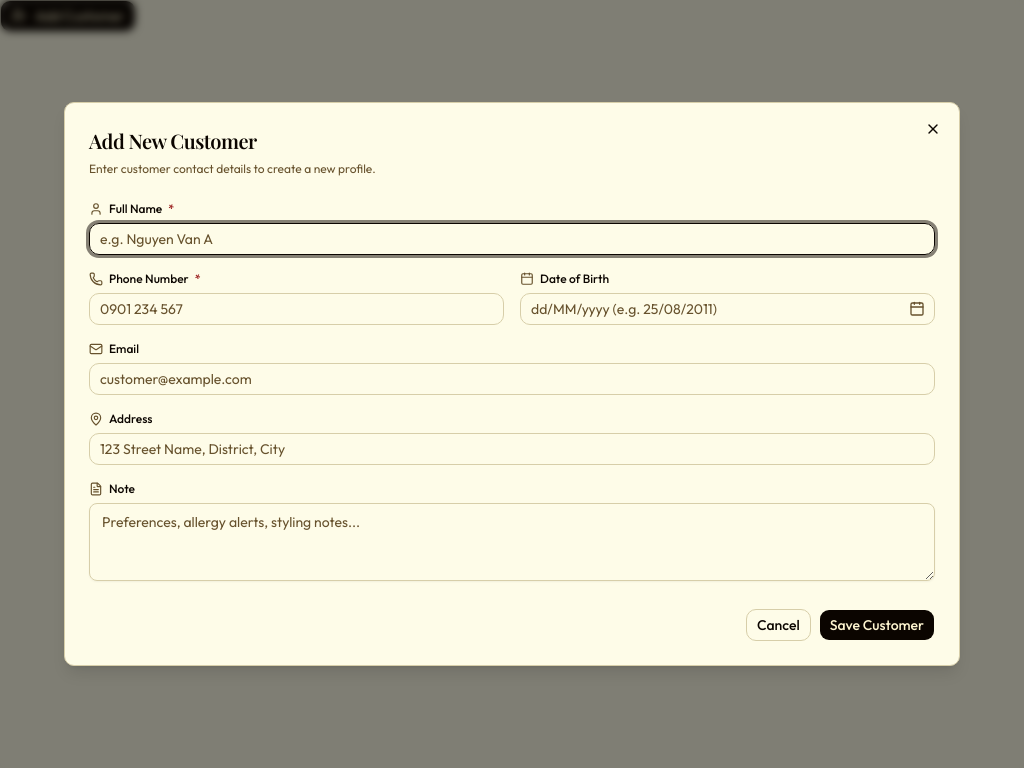
Test case: CustomerFormDialog - Create Mode › displays validation error for invalid email and invalid birthday format
Type "Valid Name" into the field labelled "Full Name *".
click(512, 239); type("Valid Name")  # box [89,223,935,255]
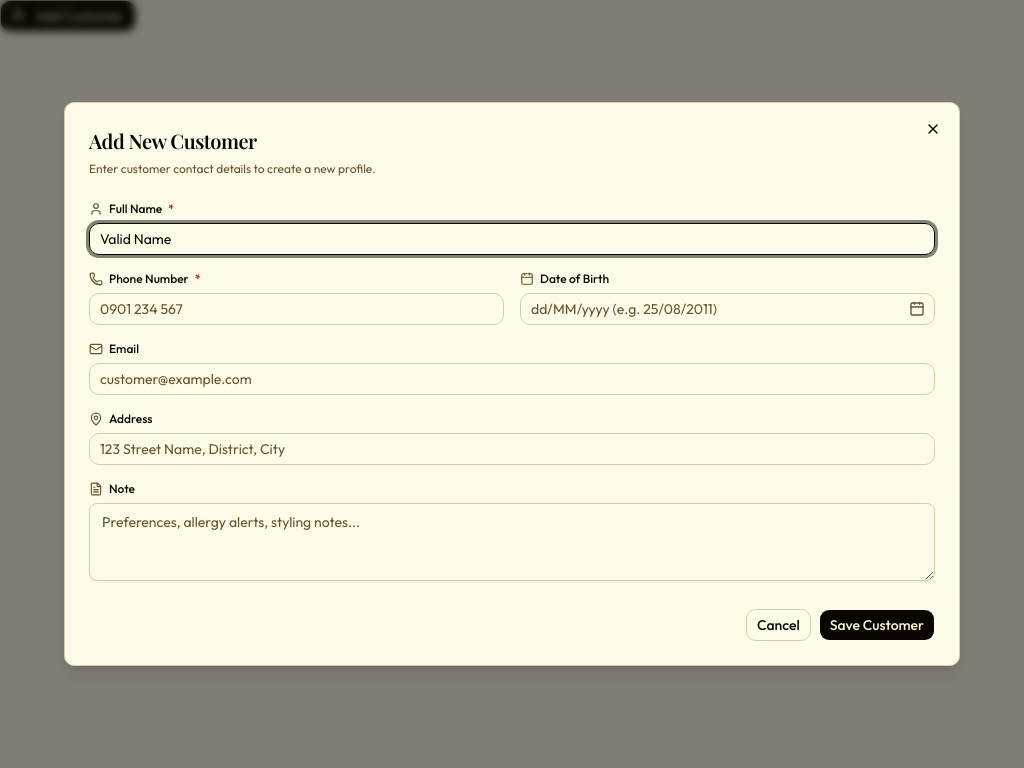
Type "0901234567" into the field labelled "Phone Number *".
click(296, 309); type("0901234567")  # box [89,293,504,325]
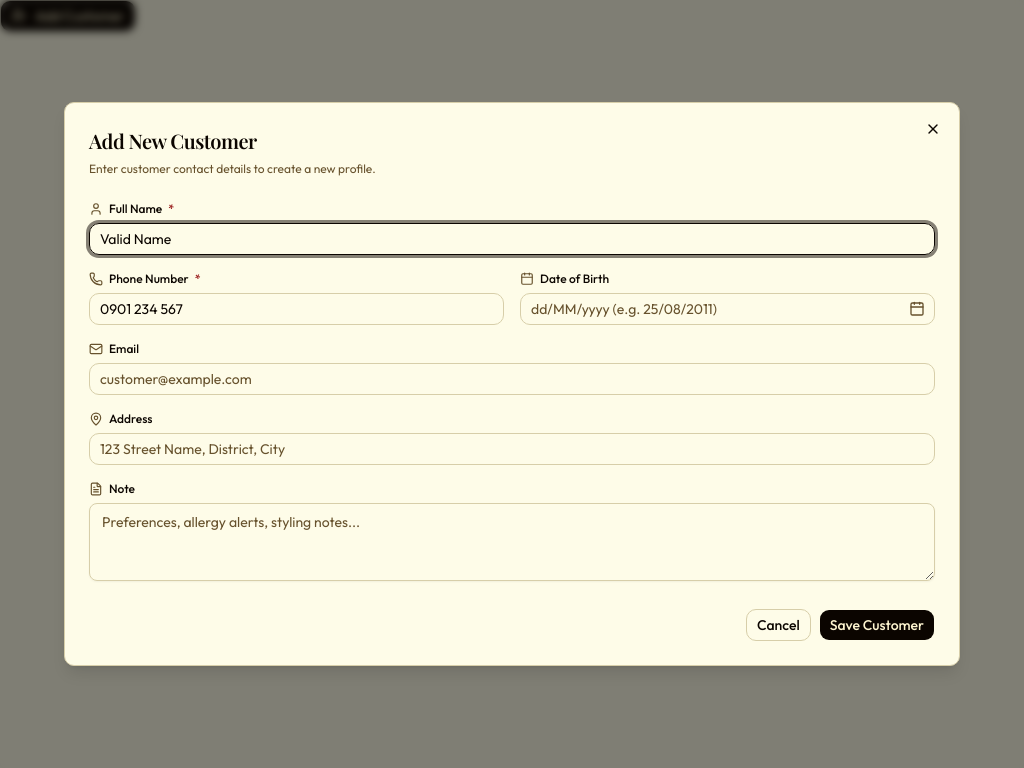
Type "invalid-email" into the field labelled "Email".
click(512, 379); type("invalid-email")  # box [89,363,935,395]
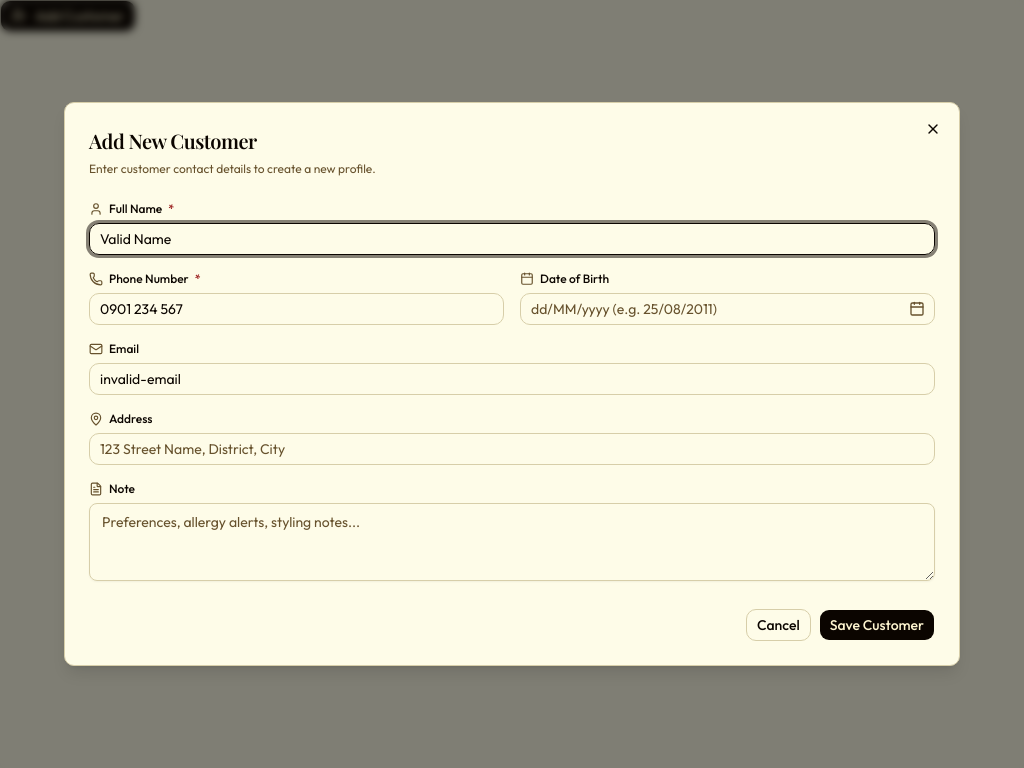
Type "99/99/9999" into the field labelled "Date of Birth".
click(728, 309); type("99/99/9999")  # box [520,293,935,325]
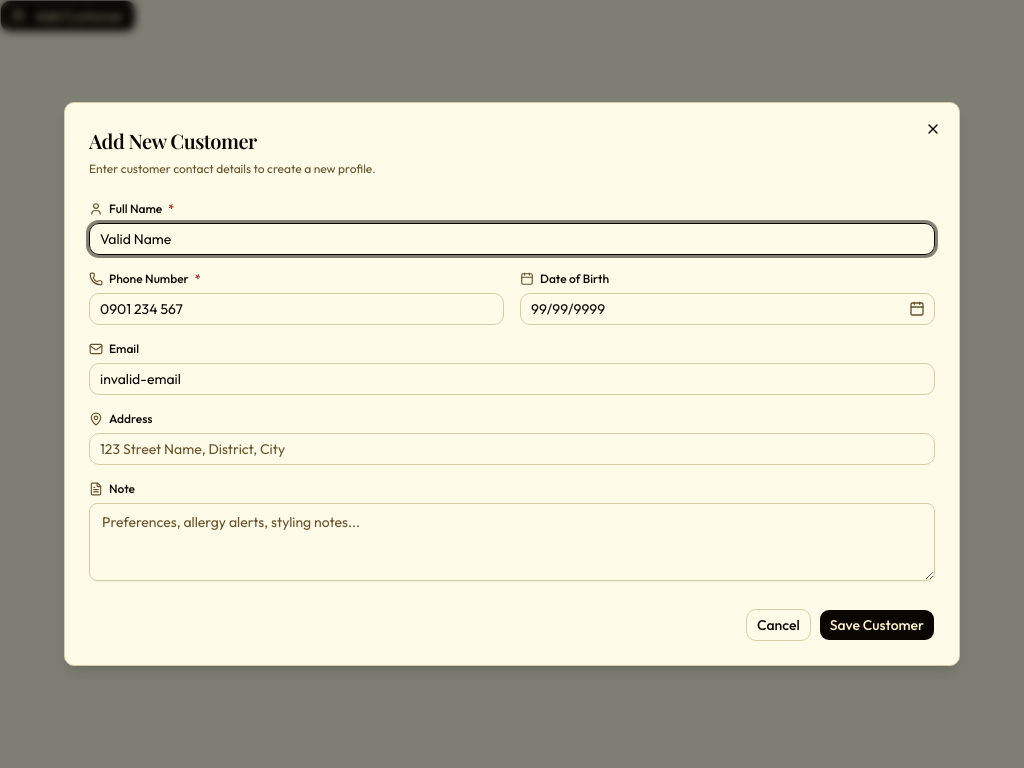
Click the button "Save Customer".
click(877, 625)  # box [819,609,935,641]
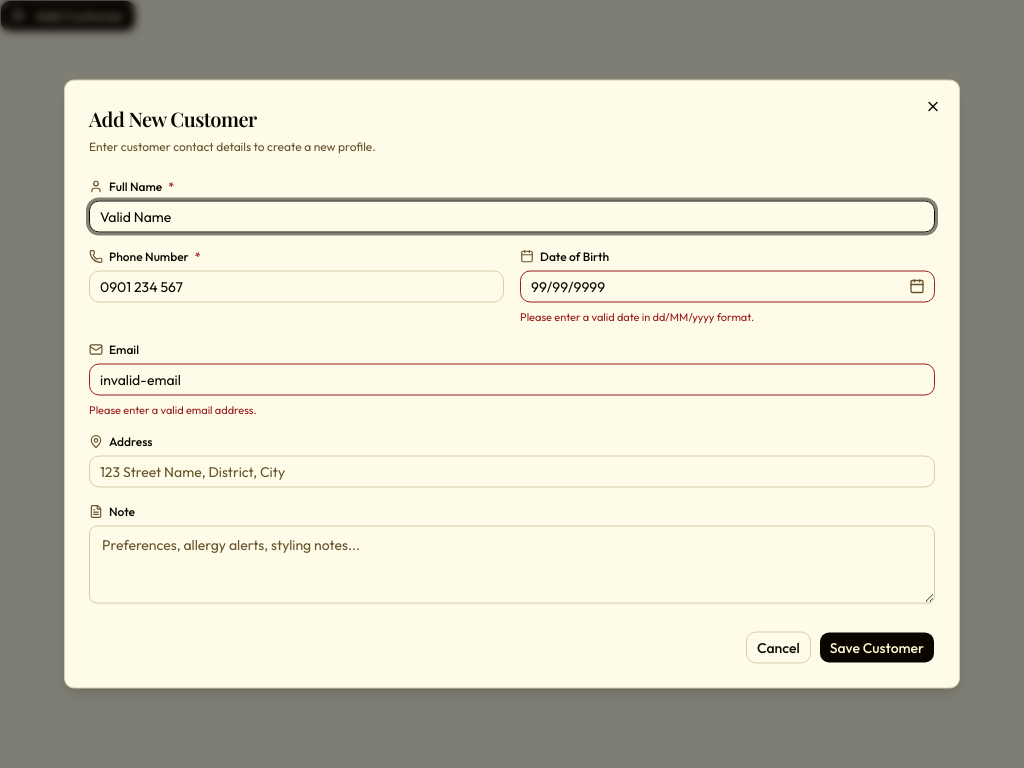
Now the text "Please enter a valid email address." is shown, box [89,402,257,416]
Now the text "Please enter a valid date in dd/MM/yyyy format." is shown, box [520,310,754,324]
